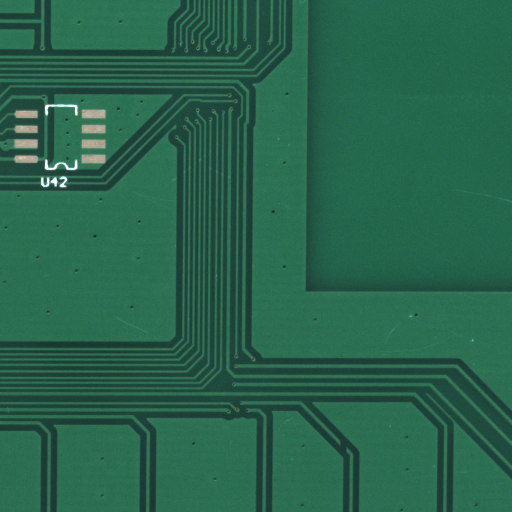Open_circuit: (343, 447, 357, 470)
